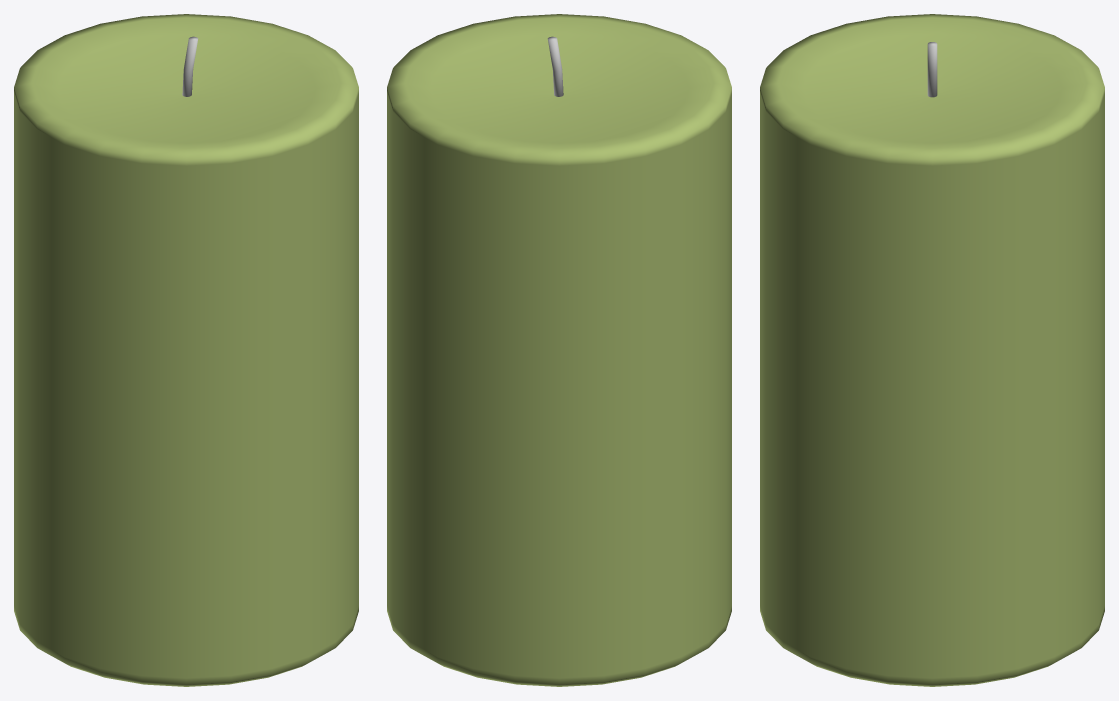
File: candle.fbx
3 renders of one model, left to right at view 1: azimuth 30°, elevation 25°; view 2: azimuth 150°, elevation 25°; view 3: azimuth 270°, elevation 25°, orthographic.
Parts seen in each view (by area): view 1: candle, wick; view 2: candle, wick; view 3: candle, wick.
Part boxes in pixels (bbox=[...]): candle: bbox=[14, 14, 358, 686]; wick: bbox=[182, 36, 198, 96]; candle: bbox=[387, 14, 731, 686]; wick: bbox=[547, 36, 563, 96]; candle: bbox=[760, 14, 1104, 686]; wick: bbox=[927, 42, 937, 97].
Size of the model in its own units: 0.5894 by 1.09 by 0.5894.
